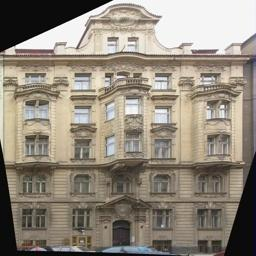building: (0, 0, 256, 253)
